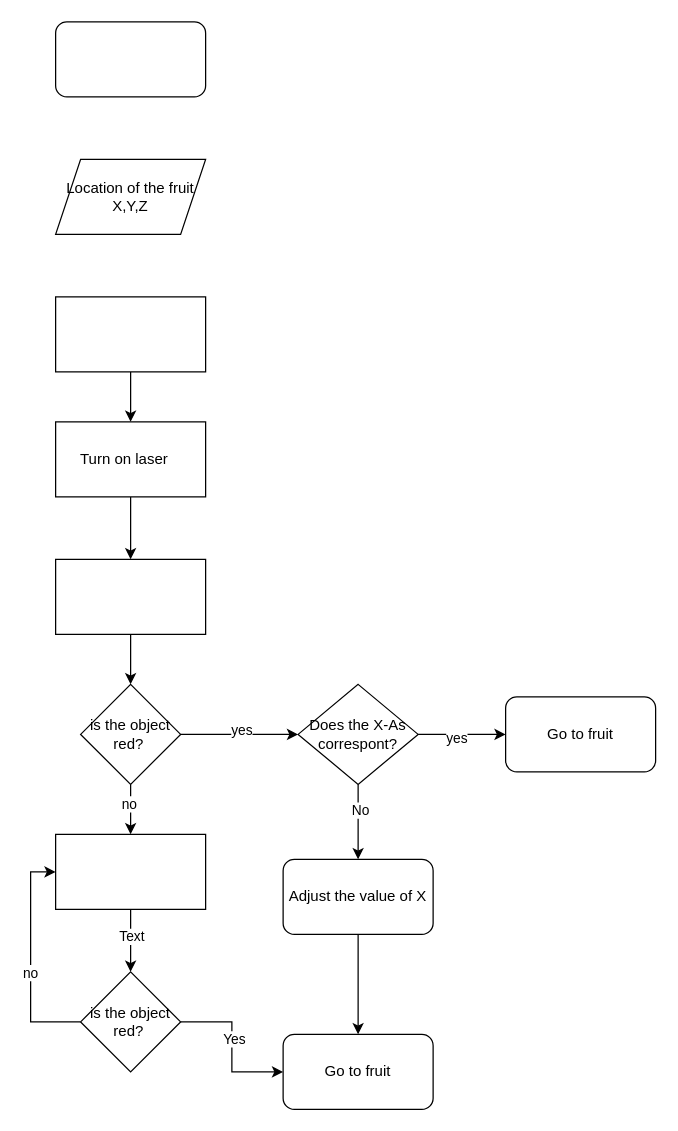
This 678x1131 diagram has some shape labels left out. The shapes that lost their labels are listed below. From the top down, each one's centre as x and y in pixels, then its label:
pixel 130 59: Start
pixel 130 334: Go to (X-100),Y,Z
pixel 130 596: Read signal
pixel 130 871: change y or value z -20
